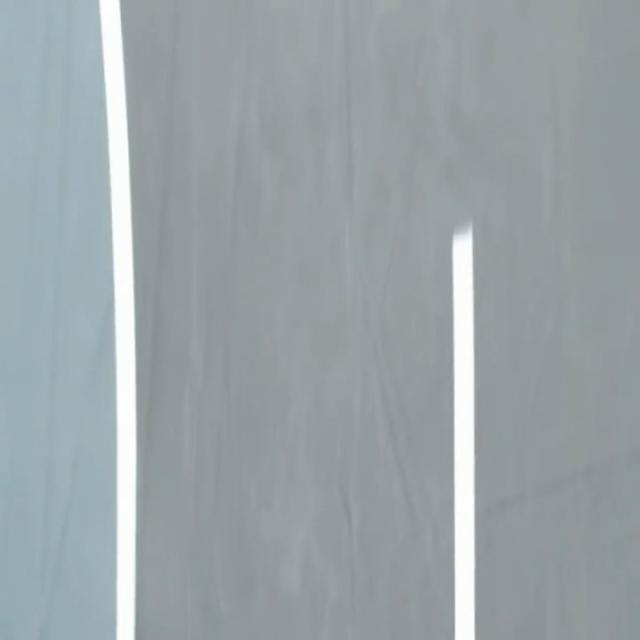center: (452, 223, 475, 639)
left: (99, 0, 135, 639)
